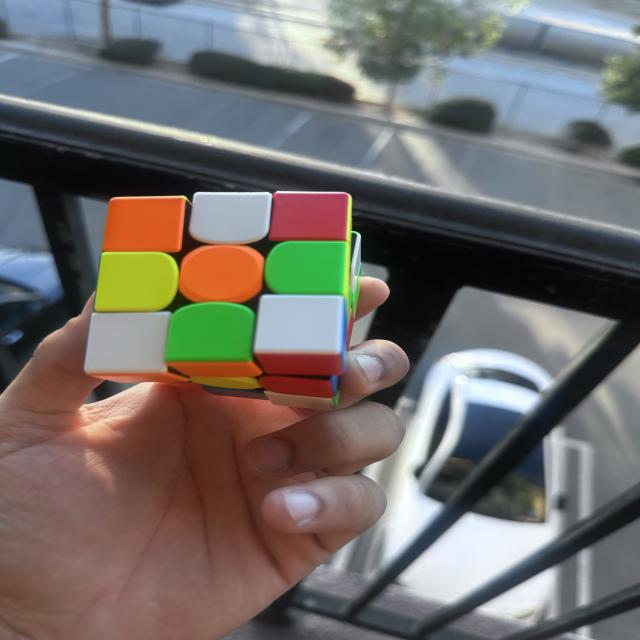sticker: (252, 294, 350, 375), (164, 301, 264, 377), (81, 309, 176, 381), (92, 251, 180, 315), (178, 243, 266, 306), (100, 194, 188, 254), (263, 240, 350, 300), (188, 191, 274, 247), (267, 192, 350, 244), (254, 374, 341, 406), (188, 375, 264, 391)
